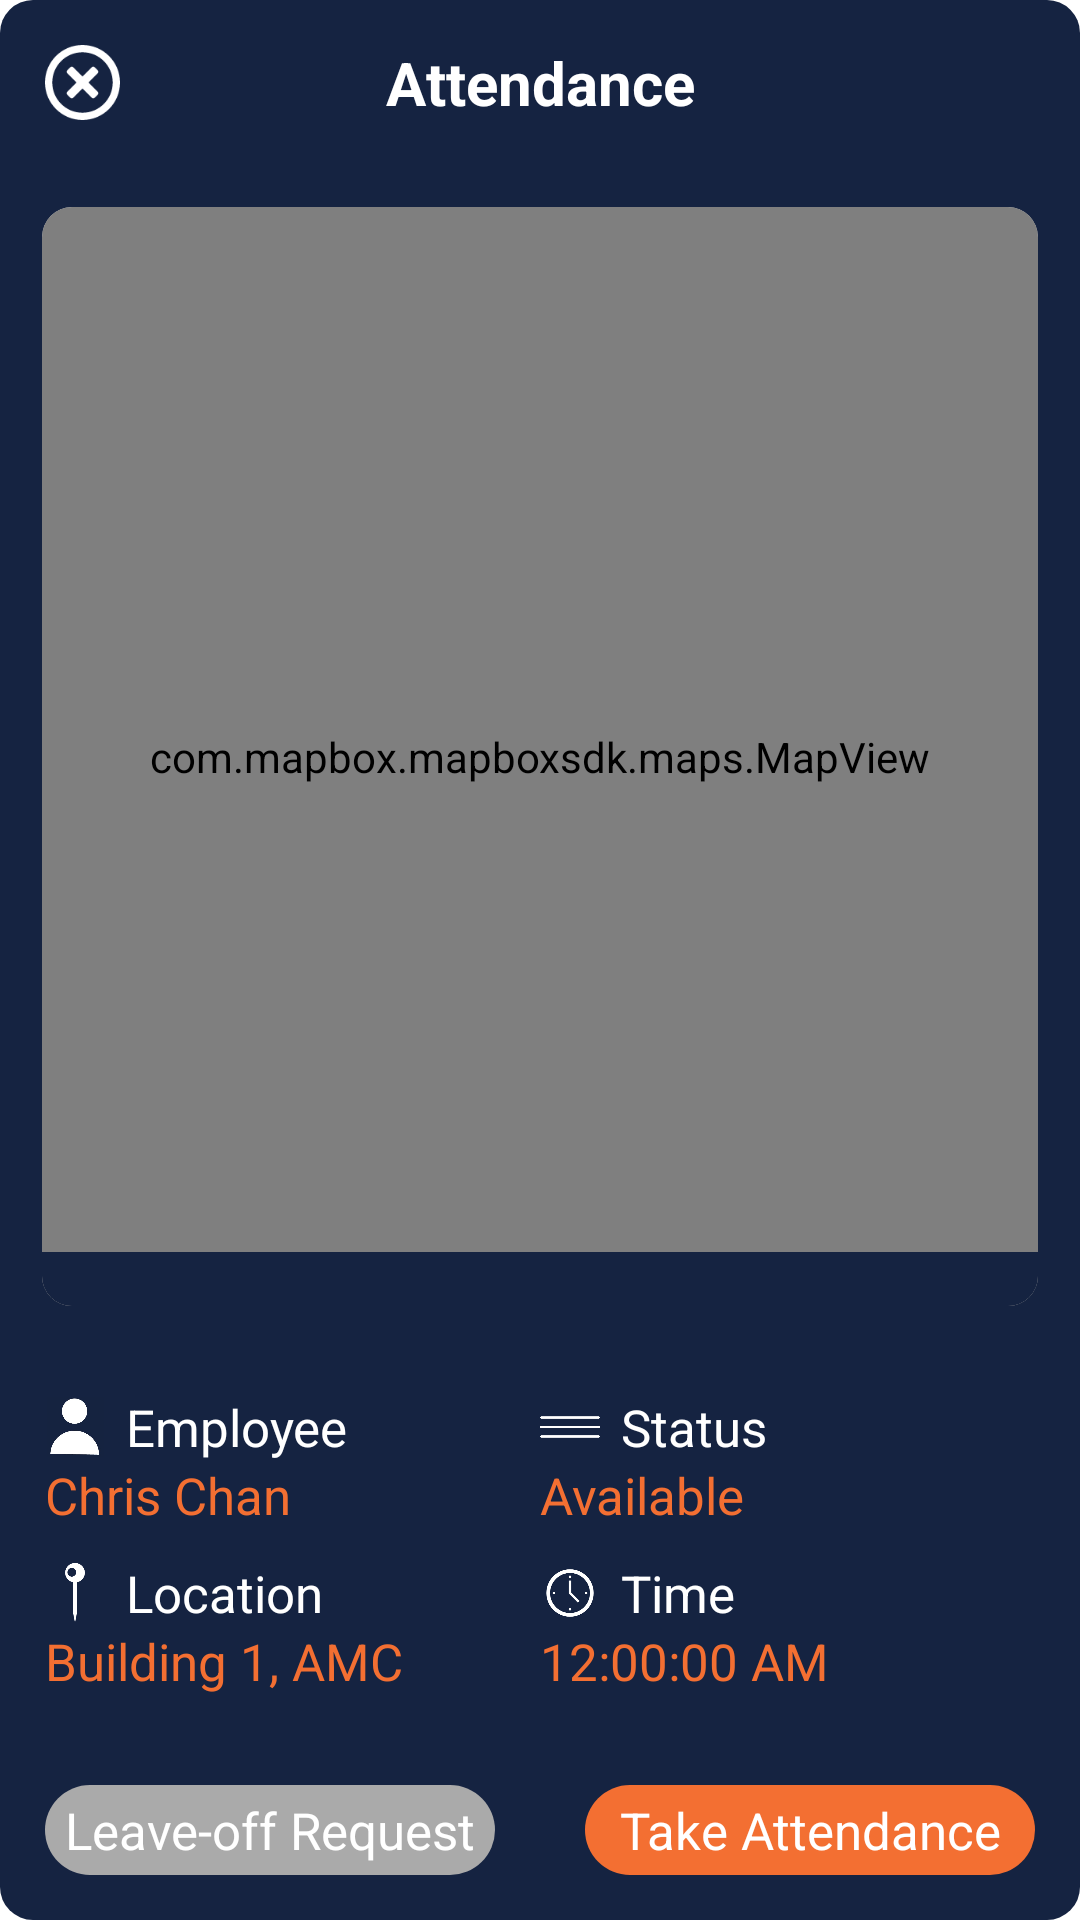

Where to tap for icons on this 1080 × 1920 app screen, as [x,y]:
clock: [570,1593]
close: [82,82]
emp: [74,1426]
pin: [75,1592]
three stripes: [570,1427]
